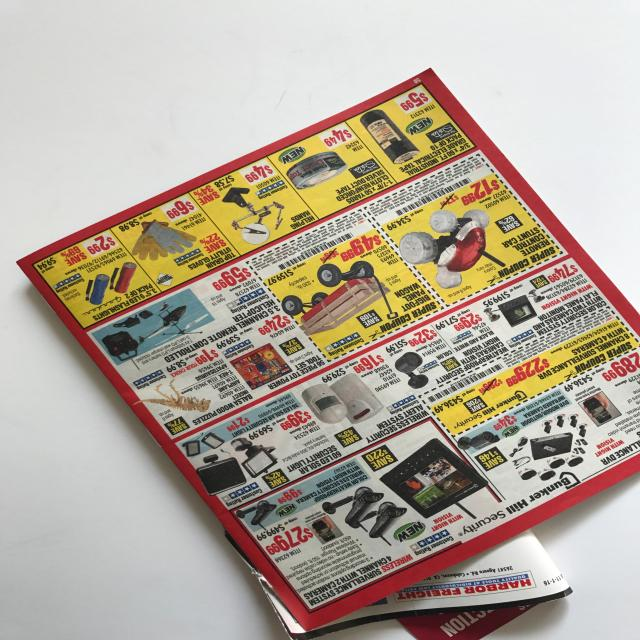paper: (14, 67, 638, 638)
